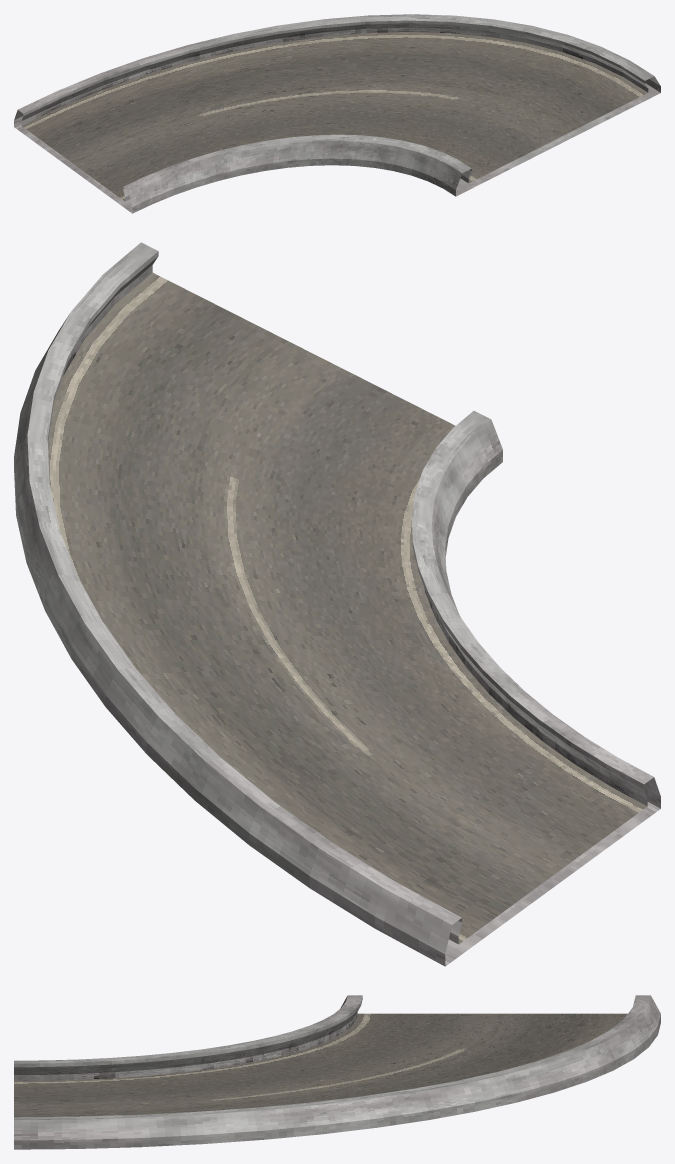
The model's file is turn-left2x2.glb.
3 renders of one model, top to bottom at view 1: azimuth 30°, elevation 25°; view 2: azimuth 150°, elevation 25°; view 3: azimuth 270°, elevation 25°, orthographic. The views are drawn at different scales.
Parts seen in each view (by area): view 1: road-Turn-HalfBankedLeft-BiSlopeDown-Down1-Left-Size2; view 2: road-Turn-HalfBankedLeft-BiSlopeDown-Down1-Left-Size2; view 3: road-Turn-HalfBankedLeft-BiSlopeDown-Down1-Left-Size2.
Boxes of the visible parts, x1,y1,x2,y2 form: road-Turn-HalfBankedLeft-BiSlopeDown-Down1-Left-Size2: [14, 14, 660, 213]; road-Turn-HalfBankedLeft-BiSlopeDown-Down1-Left-Size2: [14, 242, 660, 966]; road-Turn-HalfBankedLeft-BiSlopeDown-Down1-Left-Size2: [14, 995, 660, 1149].
Bounding box in the file's own units: 2 × 0.5859 × 2.
Materials: 2 (2 with a texture image).
